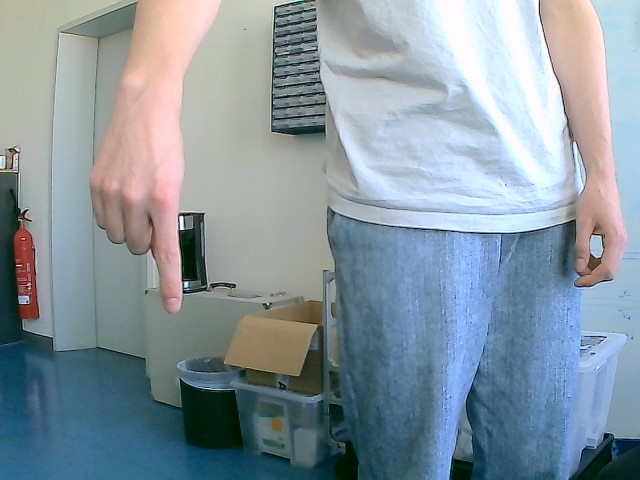down: (88, 81, 187, 315)
no_gesture: (571, 182, 630, 288)
